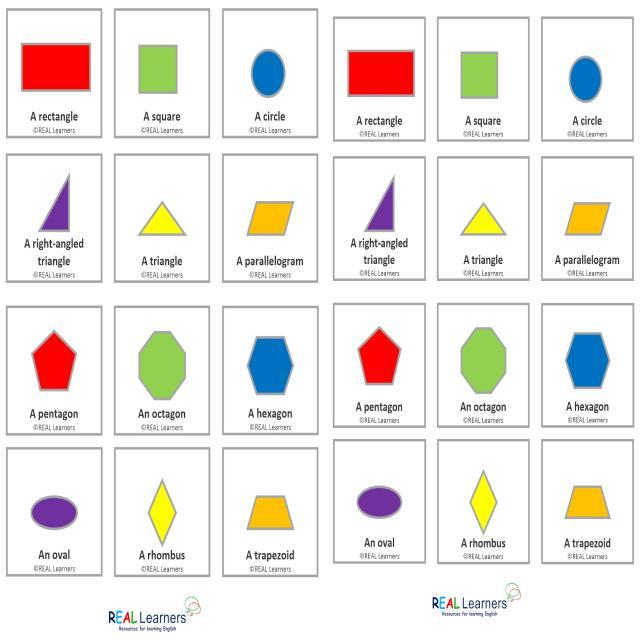BelahKetupat: (140, 466, 190, 551), (459, 466, 505, 540)
Jajar-Genjang: (232, 174, 321, 250), (556, 186, 618, 248)
Lingkaran: (17, 468, 95, 578), (552, 31, 620, 127), (350, 452, 412, 546), (242, 37, 312, 113)
Persegi: (15, 25, 101, 110), (343, 33, 424, 122), (129, 23, 197, 117), (449, 37, 517, 122)
Segitiga: (130, 178, 194, 274), (457, 182, 521, 267), (29, 168, 84, 261), (360, 174, 411, 252)
Trapesium: (229, 469, 306, 545), (555, 464, 619, 538)
